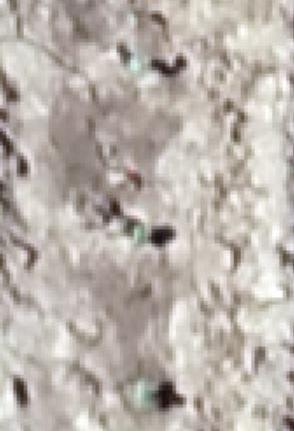cotton: (139, 380, 156, 403), (130, 56, 151, 72), (135, 227, 144, 244)
